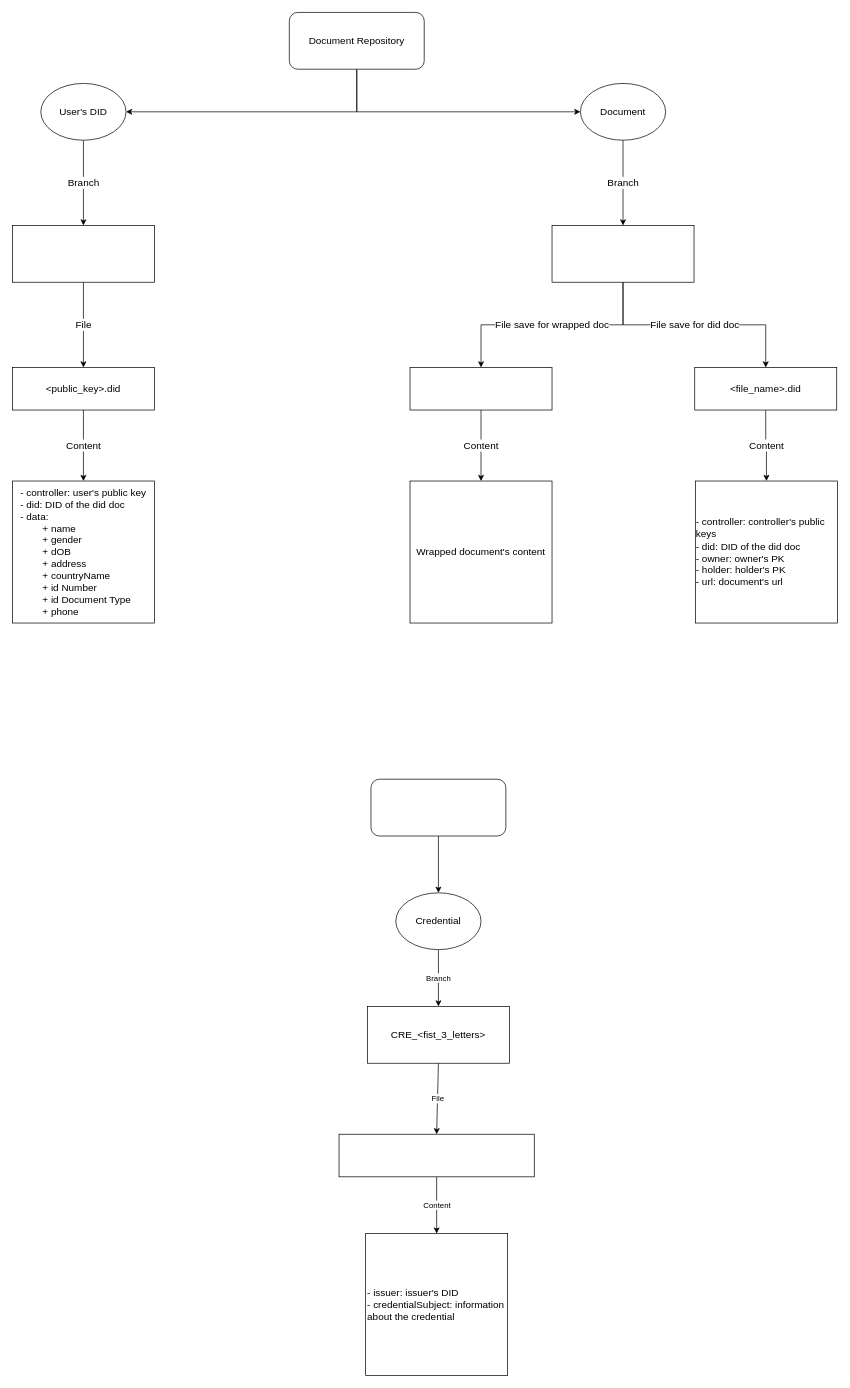
The diagram is 850 pixels wide and 1388 high, and some of its shapes have lost their labels. The shapes that lost their labels are listed below. From the top down, each one's centre as x and y in pixels, then its label:
(83,253): DID_<companyName>
(622,253): DOC_<companyName>
(480,388): <file_name>.doc
(438,807): Credential Repository
(436,1155): <credential_hash>.cre
